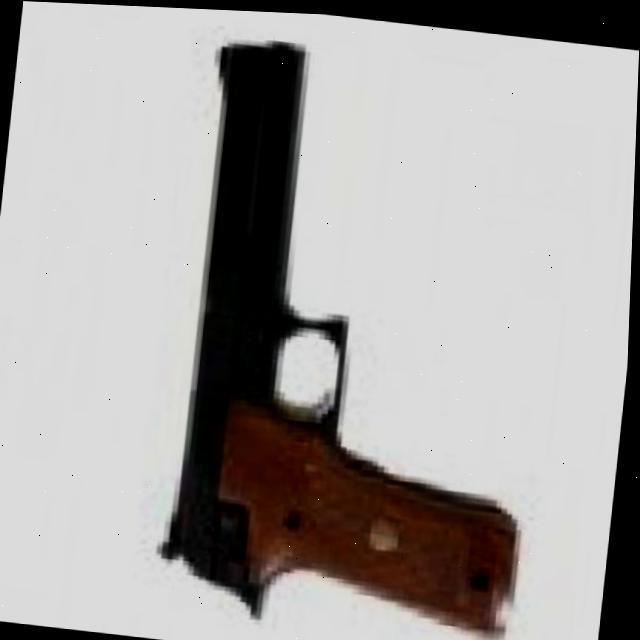gun: (157, 25, 582, 640)
